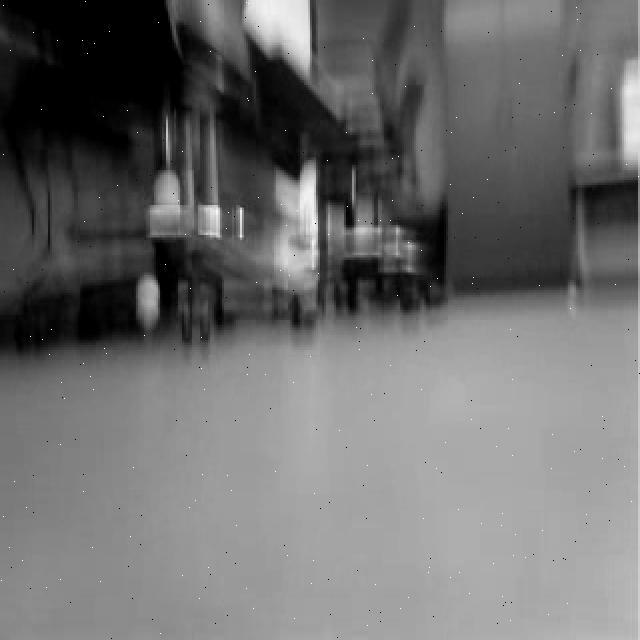ping-pong-ball: (150, 175, 185, 231), (132, 271, 163, 324)
